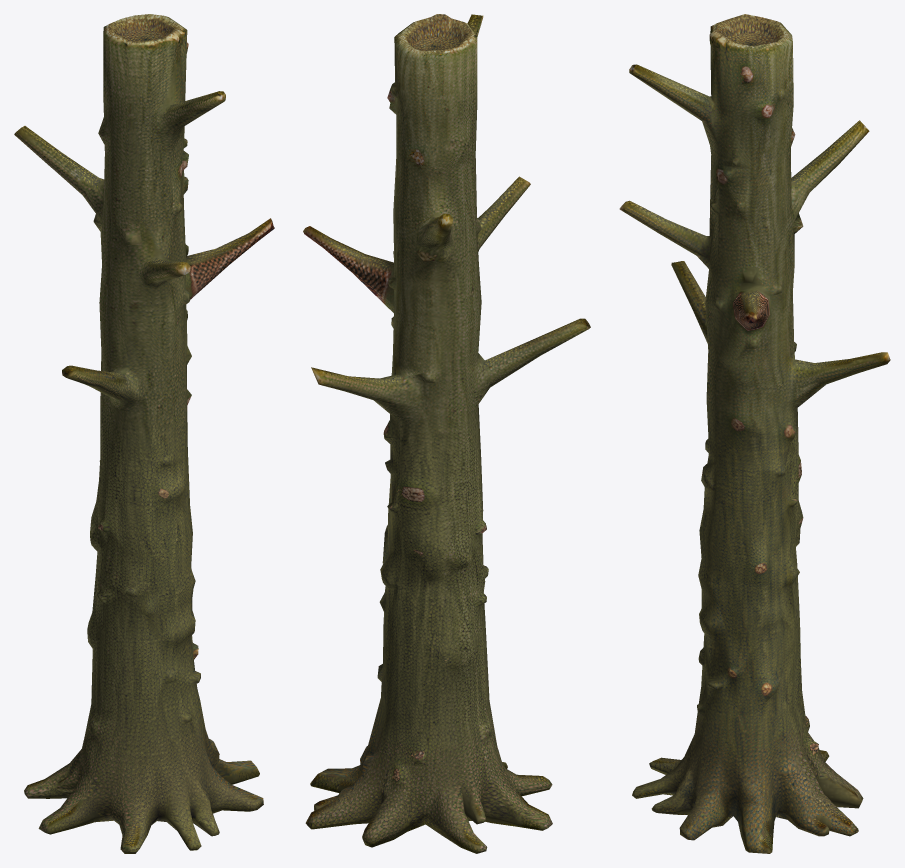
The model's file is GinkgoTrunk.glb.
3 renders of one model, left to right at view 1: azimuth 30°, elevation 25°; view 2: azimuth 150°, elevation 25°; view 3: azimuth 270°, elevation 25°, orthographic.
Visible parts, largest first — view 1: tripo_node_0ec1034a-449a-4d5b-ad7c-0fd2938b35cb; view 2: tripo_node_0ec1034a-449a-4d5b-ad7c-0fd2938b35cb; view 3: tripo_node_0ec1034a-449a-4d5b-ad7c-0fd2938b35cb.
Part boxes in pixels (x1,y1,x2,y2): tripo_node_0ec1034a-449a-4d5b-ad7c-0fd2938b35cb: [14, 14, 274, 853]; tripo_node_0ec1034a-449a-4d5b-ad7c-0fd2938b35cb: [303, 14, 590, 853]; tripo_node_0ec1034a-449a-4d5b-ad7c-0fd2938b35cb: [619, 14, 890, 853].
Size of the model in its own units: 0.3306 by 0.9995 by 0.3159.
Materials: 1 (1 with a texture image).
